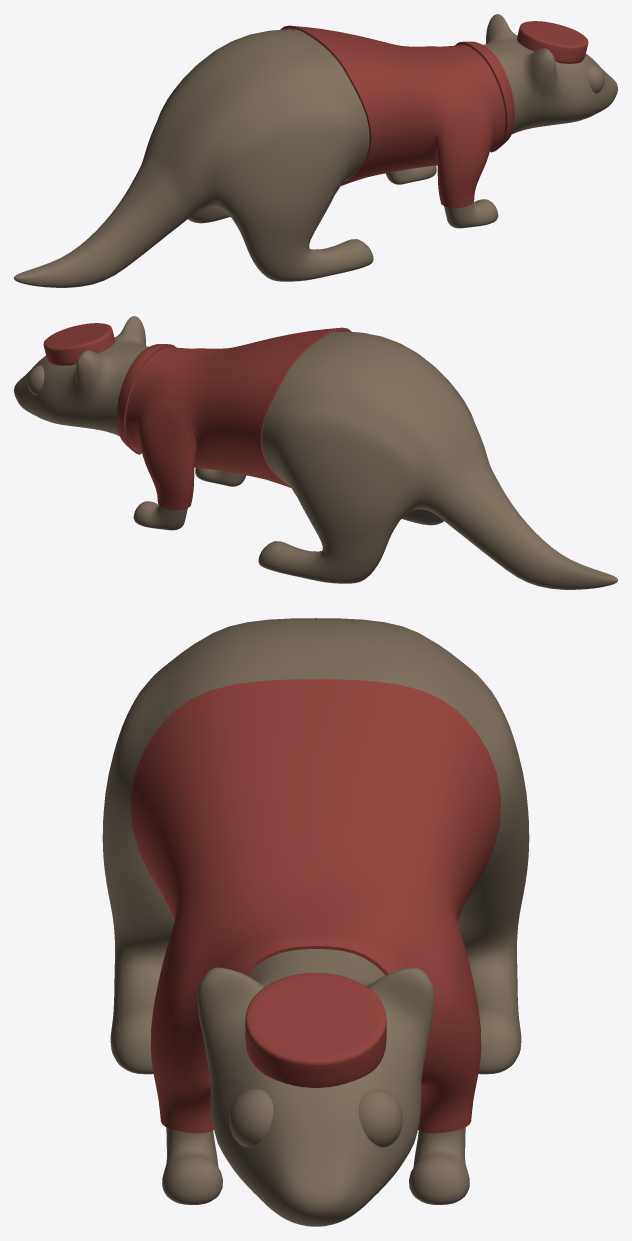
File: ferretAR2.obj
3 renders of one model, top to bottom at view 1: azimuth 30°, elevation 25°; view 2: azimuth 150°, elevation 25°; view 3: azimuth 270°, elevation 25°, orthographic. The views are drawn at different scales.
Parts seen in each view (by area): view 1: Ferret_Body_Applied, Ferret_Only_Vest_Applied, Cylinder.001, Ferret_Eyes_Applied; view 2: Ferret_Body_Applied, Ferret_Only_Vest_Applied, Cylinder.001, Ferret_Eyes_Applied; view 3: Ferret_Only_Vest_Applied, Ferret_Body_Applied, Cylinder.001, Ferret_Eyes_Applied.
Boxes of the visible parts, x1,y1,x2,y2 form: Ferret_Body_Applied: (14, 14, 617, 287); Ferret_Only_Vest_Applied: (280, 25, 514, 208); Cylinder.001: (517, 21, 588, 63); Ferret_Eyes_Applied: (587, 63, 604, 93); Ferret_Body_Applied: (14, 316, 617, 589); Ferret_Only_Vest_Applied: (116, 327, 351, 510); Cylinder.001: (43, 323, 114, 365); Ferret_Eyes_Applied: (27, 365, 44, 395); Ferret_Only_Vest_Applied: (130, 679, 501, 1133); Ferret_Body_Applied: (102, 618, 529, 1226); Cylinder.001: (245, 973, 386, 1087); Ferret_Eyes_Applied: (229, 1089, 402, 1147).
Size of the model in its own units: 16.29 by 5.05 by 5.01.
